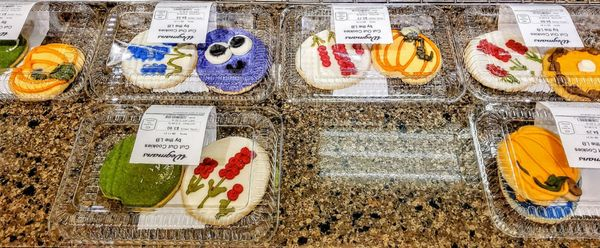salad: (296, 29, 371, 90), (370, 31, 442, 85)
